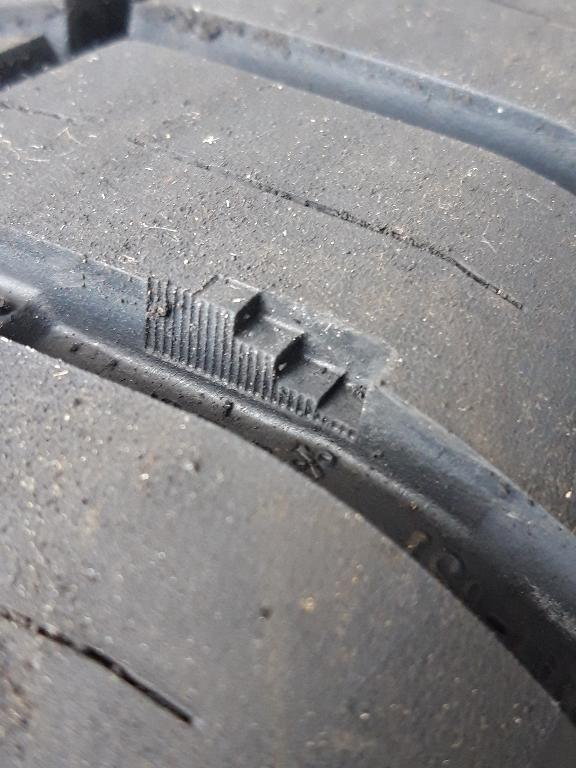temoin:75: (180, 266, 411, 453)
